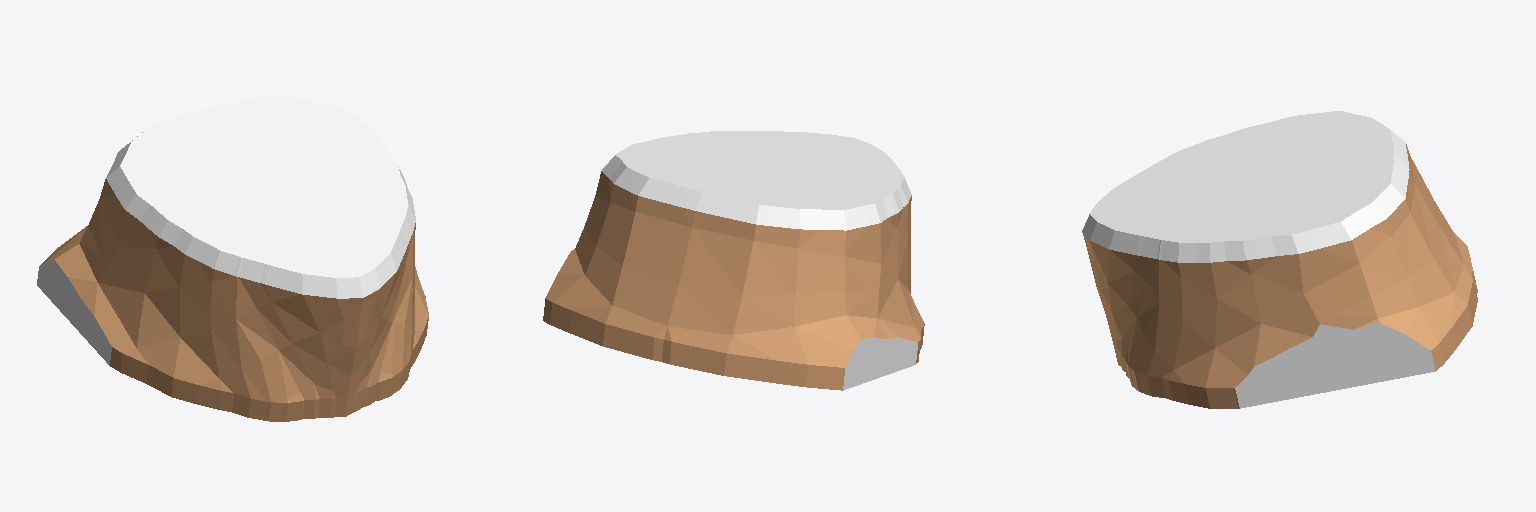
File: neck.obj
3 views of the same model, side by side, from view 1: azimuth 30°, elevation 25°; view 2: azimuth 150°, elevation 25°; view 3: azimuth 270°, elevation 25° (orthographic).
Parts seen in each view (by area): view 1: Mesh1 Model; view 2: Mesh1 Model; view 3: Mesh1 Model.
Boxes of the visible parts, x1,y1,x2,y2 form: Mesh1 Model: [37, 97, 428, 421]; Mesh1 Model: [543, 131, 924, 390]; Mesh1 Model: [1082, 111, 1477, 408].
Bounding box in the file's own units: 3.61 × 2.44 × 4.21.